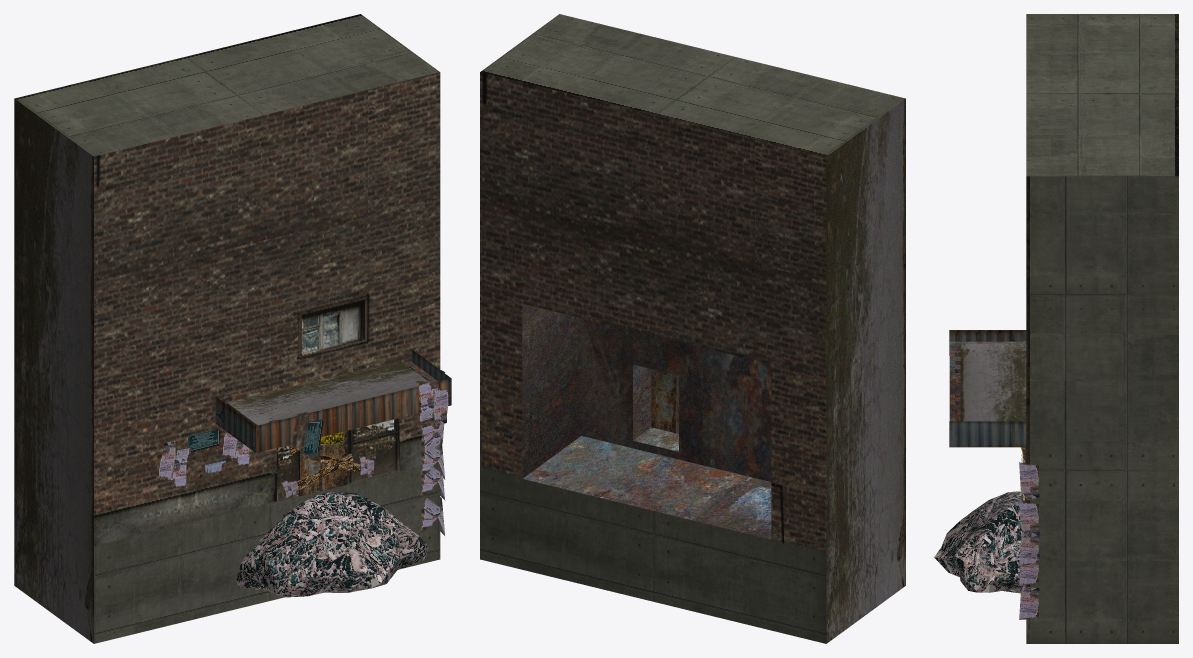
The model's file is padic.glb.
3 views of the same model, side by side, from view 1: azimuth 30°, elevation 25°; view 2: azimuth 150°, elevation 25°; view 3: azimuth 270°, elevation 25° (orthographic). The views are drawn at different scales.
Visible parts, largest first — view 1: padic, trash, padic.002, padic_door; view 2: padic, padic_door; view 3: padic, trash, padic.002.
Part boxes in pixels (box(x1,y1,x2,y2)): padic: box(14, 14, 451, 643); trash: box(236, 492, 429, 597); padic.002: box(156, 370, 449, 535); padic_door: box(288, 431, 360, 496); padic: box(480, 14, 905, 643); padic_door: box(651, 369, 678, 433); padic: box(949, 14, 1178, 643); trash: box(934, 491, 1026, 593); padic.002: box(1019, 455, 1039, 619).
Bounding box in the file's own units: 11.11 × 14.84 × 7.04.
Materials: 3 (3 with a texture image).
